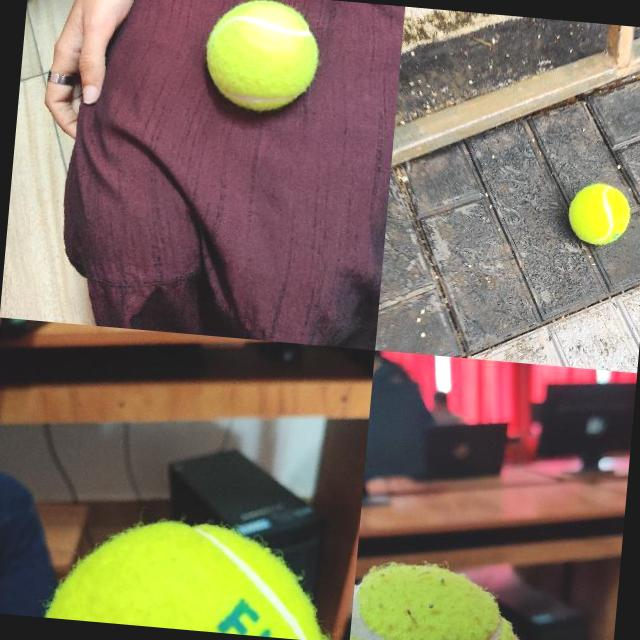Tennis Ball: (40, 509, 334, 640), (349, 559, 529, 640), (201, 0, 320, 113), (565, 180, 632, 248)
